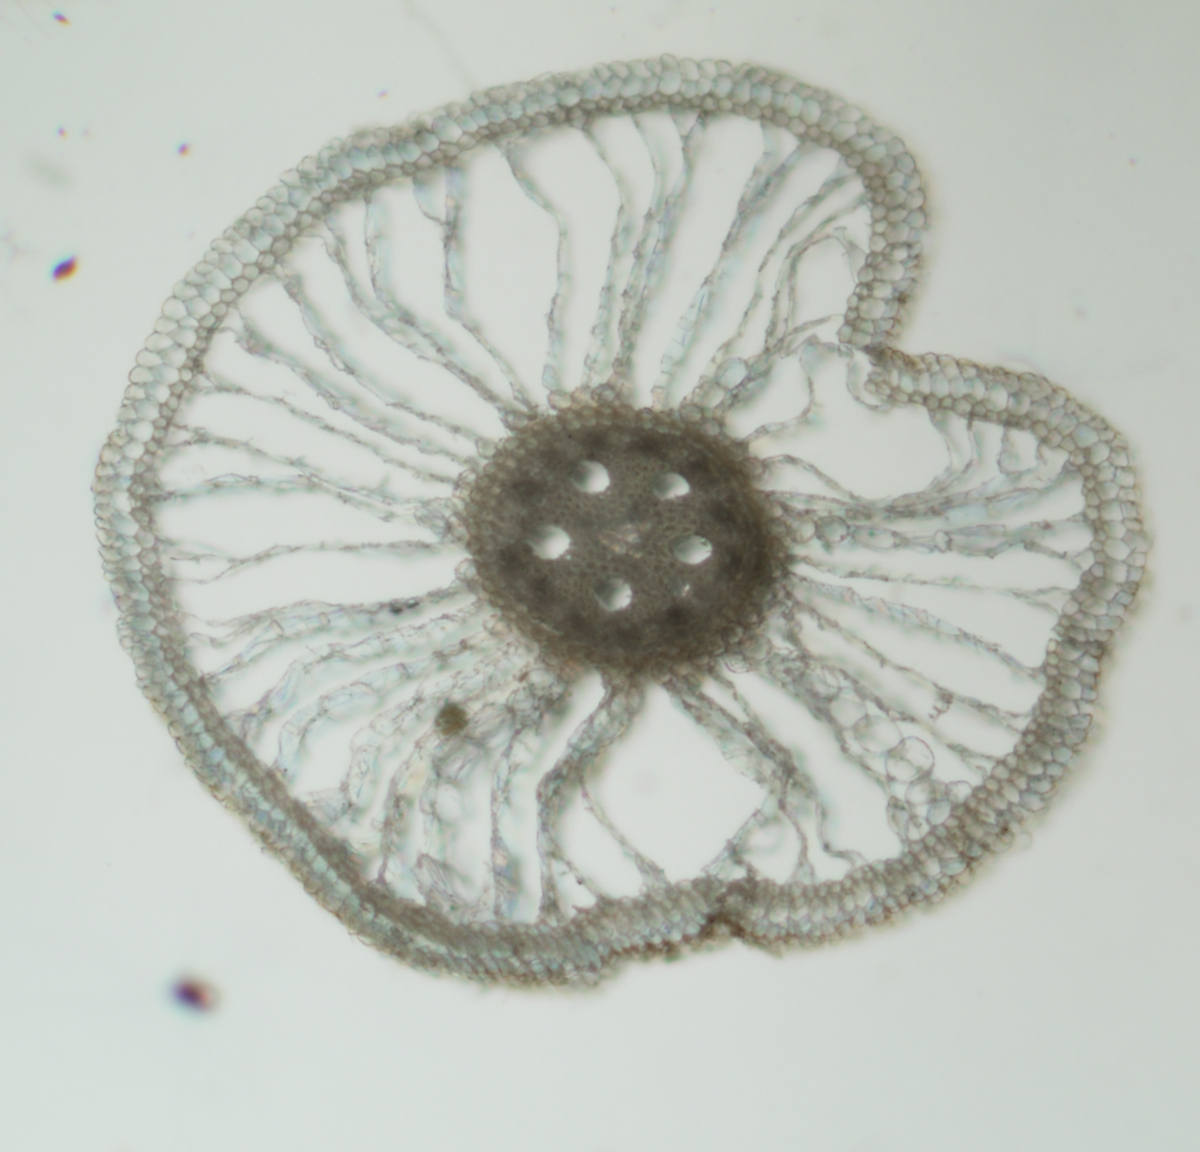lm: (601, 521, 651, 558), (522, 523, 570, 559), (590, 575, 632, 611), (569, 459, 610, 493), (670, 532, 712, 564), (651, 472, 690, 500)
